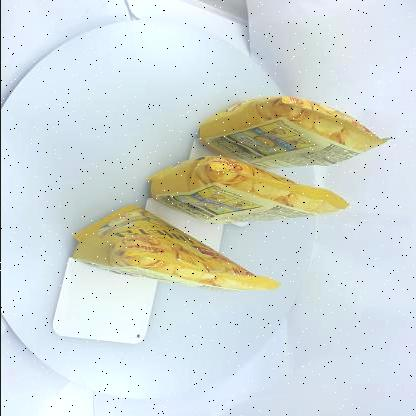Others: (57, 90, 399, 302)
